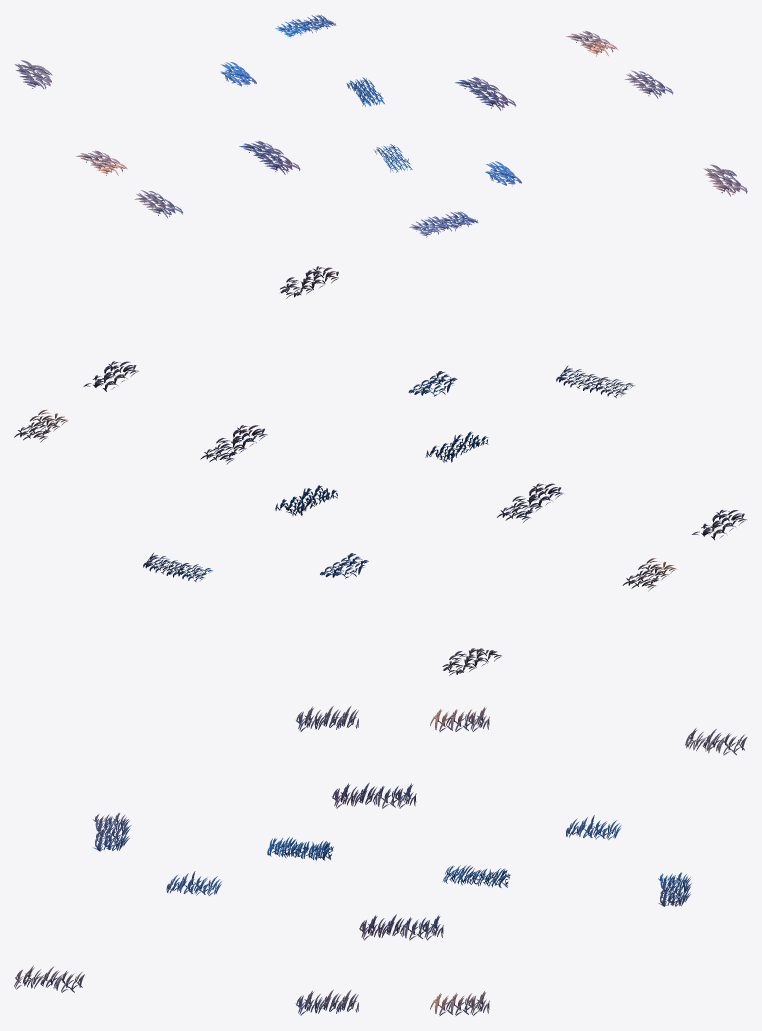
The model's file is MSH_jungle_plantsHide.FBX.
3 renders of one model, top to bottom at view 1: azimuth 30°, elevation 25°; view 2: azimuth 150°, elevation 25°; view 3: azimuth 270°, elevation 25°, orthographic. The views are drawn at different scales.
Visible parts, largest first — view 1: jungle_plantsHide; view 2: jungle_plantsHide; view 3: jungle_plantsHide.
Boxes of the visible parts, left/top/right/bottom form: jungle_plantsHide: left=14, top=15, right=747, bottom=237; jungle_plantsHide: left=14, top=266, right=747, bottom=675; jungle_plantsHide: left=14, top=706, right=747, bottom=1015.
Size of the model in its own units: 38.92 by 0.8401 by 40.02.
